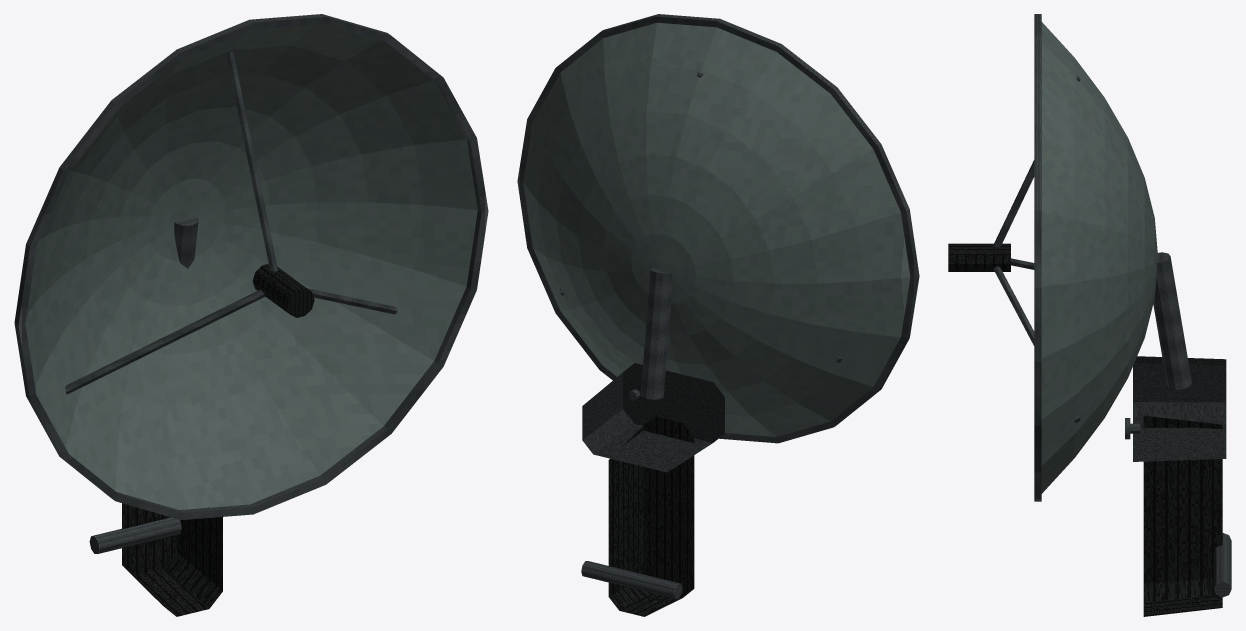
File: blender_parabolic_microphone_3.glb
The picture shows the model from 3 angles, left to right: view 1: azimuth 30°, elevation 25°; view 2: azimuth 150°, elevation 25°; view 3: azimuth 270°, elevation 25°; orthographic projection. The views are drawn at different scales.
Visible parts, largest first — view 1: blender_parabolic_microphone_3; view 2: blender_parabolic_microphone_3; view 3: blender_parabolic_microphone_3.
Boxes of the visible parts, x1=… form: blender_parabolic_microphone_3: x1=14, y1=14, x2=488, y2=616; blender_parabolic_microphone_3: x1=517, y1=14, x2=919, y2=616; blender_parabolic_microphone_3: x1=948, y1=14, x2=1231, y2=616.
Size of the model in its own units: 0.274 by 0.3535 by 0.158.
5 materials, 5 textured.
